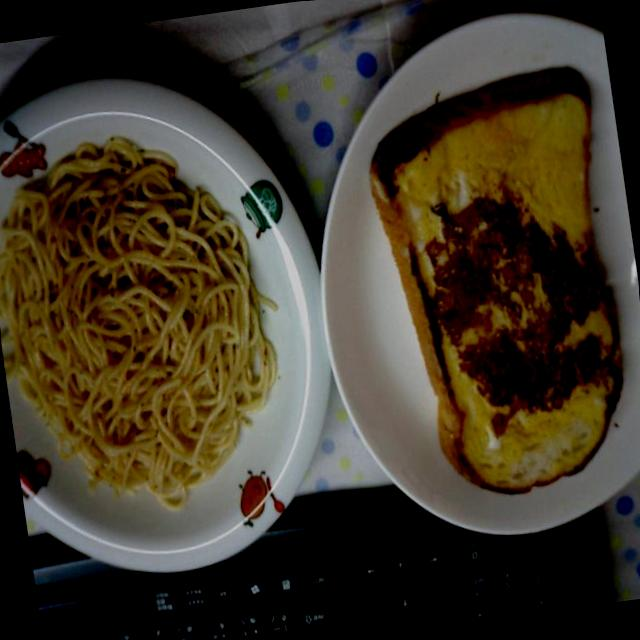Pasta: (0, 144, 295, 512)
